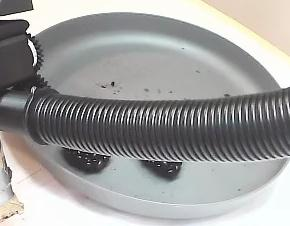berry: (63, 148, 109, 173), (149, 161, 181, 175)
